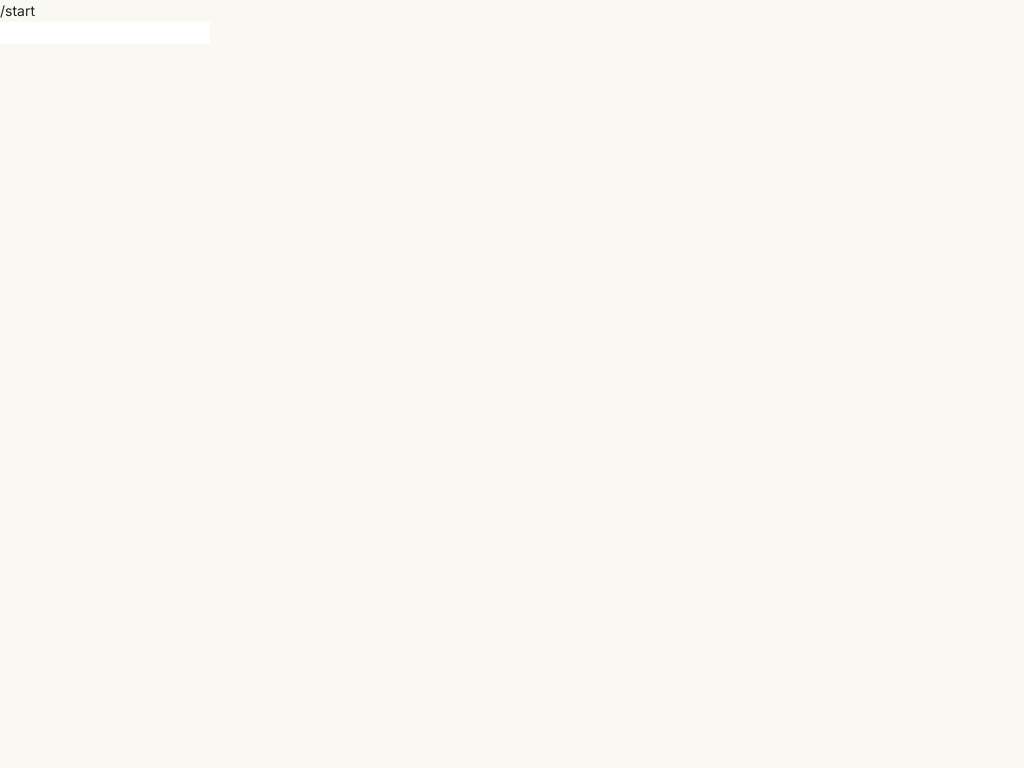
Test case: command palette › offers matching assets while an address is typed
Press k
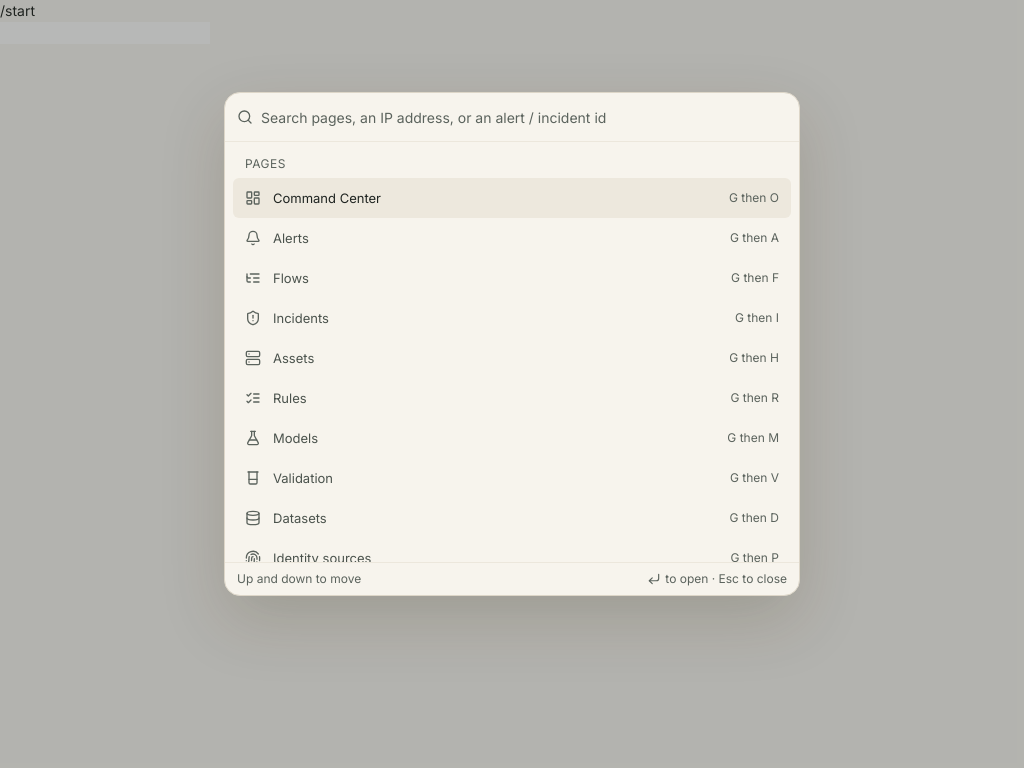
Type "10.0.0" into the dropdown at (524,117), box [261,93,787,141]
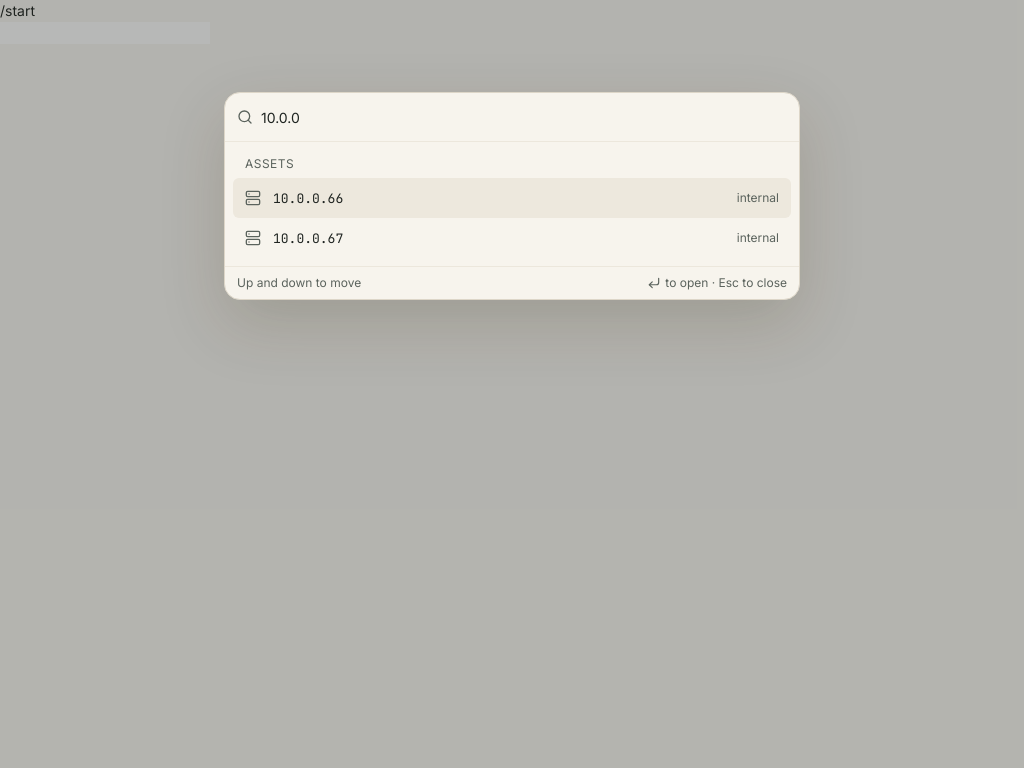
Now the option "10.0.0.67 internal" is shown, box [245,230,779,247]
